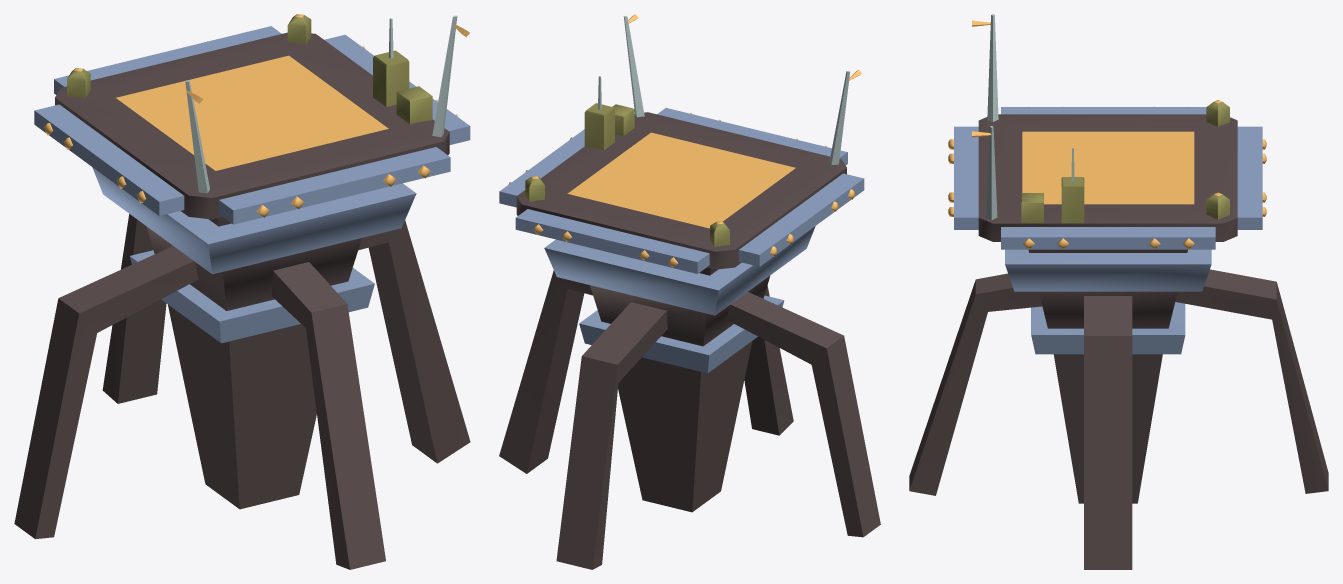
File: platform_two.fbx
The picture shows the model from 3 angles, left to right: view 1: azimuth 30°, elevation 25°; view 2: azimuth 150°, elevation 25°; view 3: azimuth 270°, elevation 25°; orthographic projection. The views are drawn at different scales.
Parts seen in each view (by area): view 1: platform__two, platform__two7_2, platform__two7_3, platform__two7_4, platform__two1_2, platform__two7_1, platform__two1_1, platform__two1_4, platform_two4, platform__two1_3, platform_two3, platform_two2 (+3 smaller); view 2: platform__two, platform__two7_1, platform__two7_2, platform__two7_4, platform__two1_4, platform__two1_1, platform__two7_3, platform__two1_2, platform__two1_3, platform_two4, platform_two2, platform_two1 (+1 smaller); view 3: platform__two, platform__two7_4, platform__two7_1, platform__two7_3, platform__two1_3, platform__two1_4, platform__two1_2, platform__two1_1, platform_two4, platform_two1, platform_two2, platform_two3 (+2 smaller).
Part boxes in pixels (x1,y1,x2,y2): platform__two: (55, 32, 449, 509); platform__two7_2: (14, 246, 198, 539); platform__two7_3: (271, 262, 385, 569); platform__two7_4: (358, 220, 470, 463); platform__two1_2: (219, 147, 450, 224); platform__two7_1: (102, 214, 166, 403); platform__two1_1: (34, 104, 184, 215); platform__two1_4: (54, 26, 281, 94); platform_two4: (373, 18, 409, 106); platform__two1_3: (324, 34, 470, 144); platform_two3: (396, 86, 432, 124); platform_two2: (432, 15, 469, 137); platform__two: (516, 112, 846, 512); platform__two7_1: (556, 302, 667, 569); platform__two7_2: (727, 292, 880, 537); platform__two7_4: (499, 270, 592, 473); platform__two1_4: (515, 209, 709, 273); platform__two1_1: (738, 173, 864, 266); platform__two7_3: (744, 285, 793, 435); platform__two1_2: (657, 108, 847, 165); platform__two1_3: (499, 129, 584, 207); platform_two4: (584, 76, 614, 150); platform_two2: (623, 14, 644, 117); platform_two1: (829, 70, 861, 165); platform__two: (978, 114, 1237, 503); platform__two7_4: (1084, 296, 1132, 569); platform__two7_1: (1175, 269, 1328, 493); platform__two7_3: (909, 273, 1042, 495); platform__two1_3: (1001, 227, 1215, 249); platform__two1_4: (1237, 126, 1266, 229); platform__two1_2: (948, 126, 978, 229); platform__two1_1: (1001, 106, 1206, 114); platform_two4: (1061, 147, 1084, 223); platform_two1: (972, 14, 998, 121); platform_two2: (972, 126, 997, 220); platform_two3: (1021, 193, 1043, 223).
Size of the model in its own units: 1430 by 1573 by 1401.
